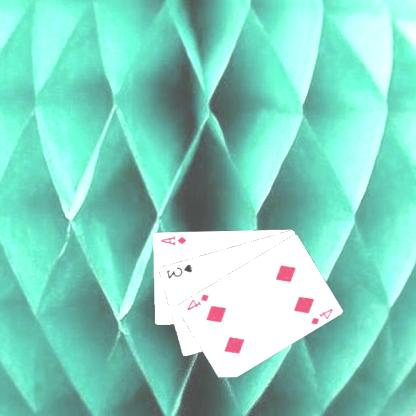3S: (165, 261, 195, 280)
4D: (309, 305, 336, 326), (186, 291, 212, 312)
AD: (160, 232, 189, 247)
